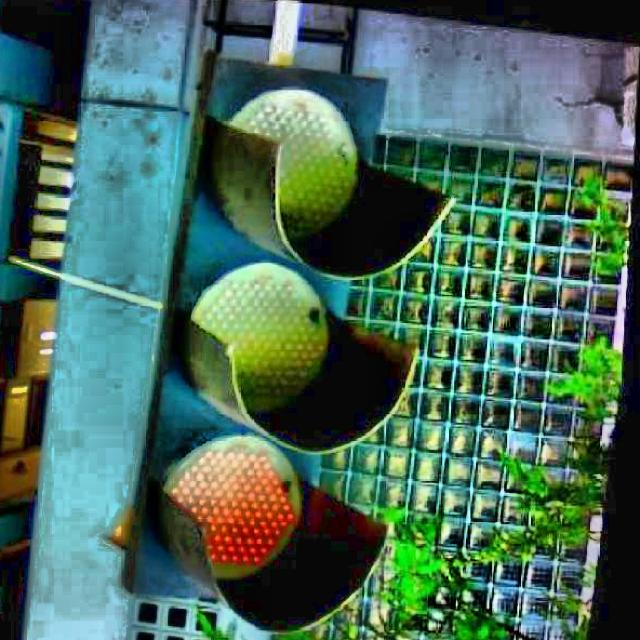red: (163, 72, 378, 610)
